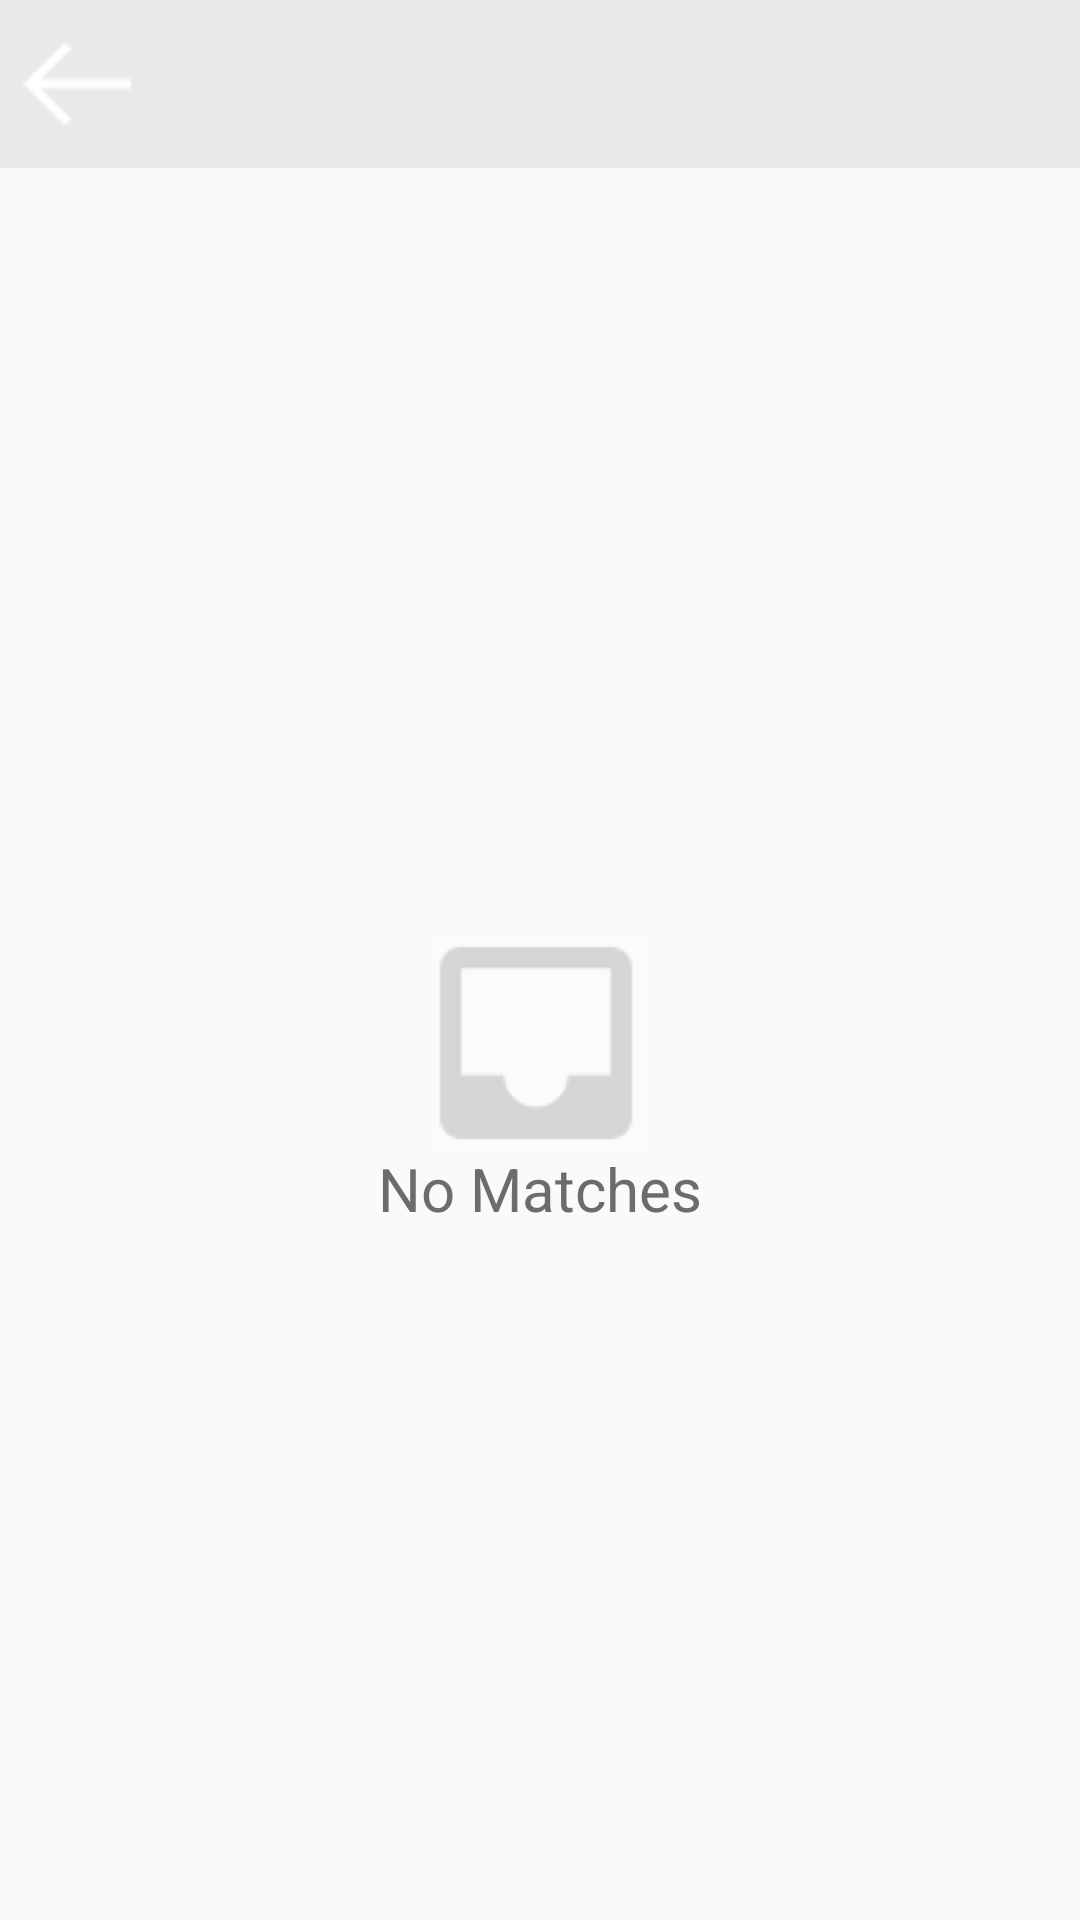

Screen size 1080 × 1920. Icon name, then its box in pixels as bbox=(x1, y1, x2, y2):
empty: bbox=(440, 947, 632, 1139)
